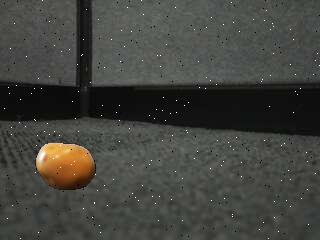Potato: (36, 143, 97, 192)
